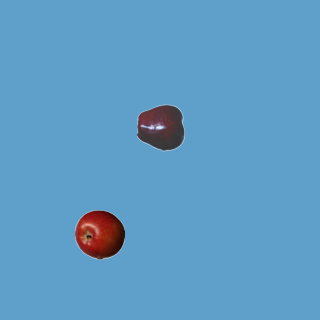Apple Braeburn: (74, 209, 124, 259)
Apple Red Delicious: (136, 102, 186, 152)
